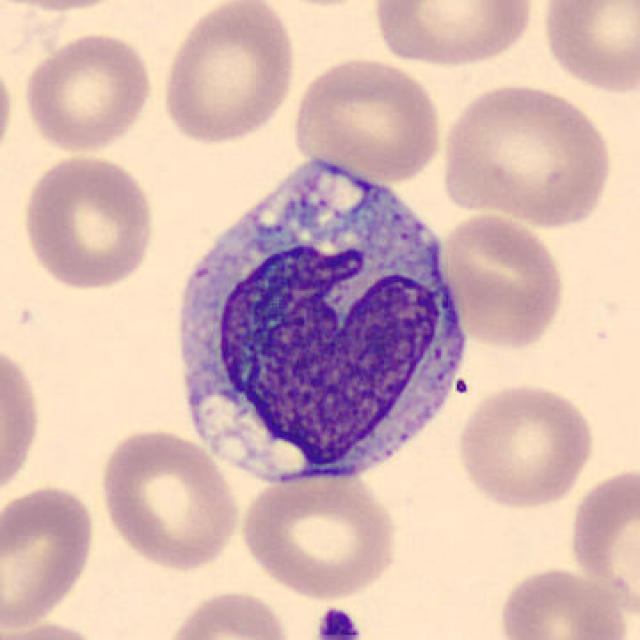Monocyte: (158, 150, 478, 495)
Platelets: (313, 604, 363, 640)
RBC: (435, 80, 617, 228), (236, 469, 404, 603), (94, 423, 242, 573), (156, 0, 300, 146), (18, 150, 160, 293), (288, 55, 446, 183), (453, 379, 598, 511), (439, 210, 567, 352), (18, 28, 156, 155), (0, 480, 100, 634), (563, 462, 640, 626), (370, 0, 538, 71), (494, 562, 633, 640), (537, 0, 638, 97), (0, 335, 44, 506), (160, 587, 297, 640), (0, 617, 110, 640), (0, 51, 18, 171), (0, 0, 135, 14)
